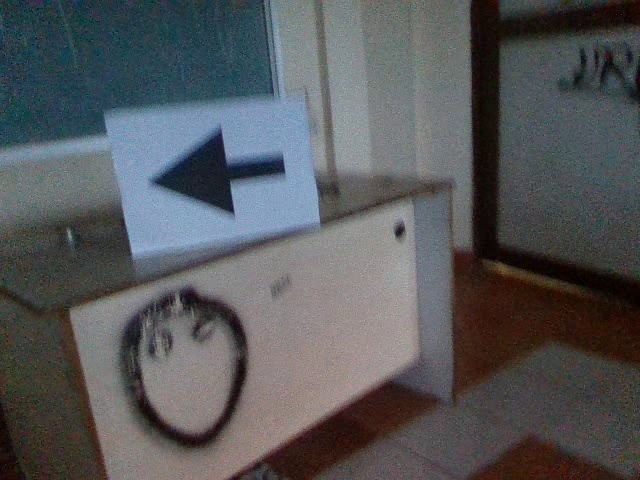Left: (141, 120, 290, 218)
